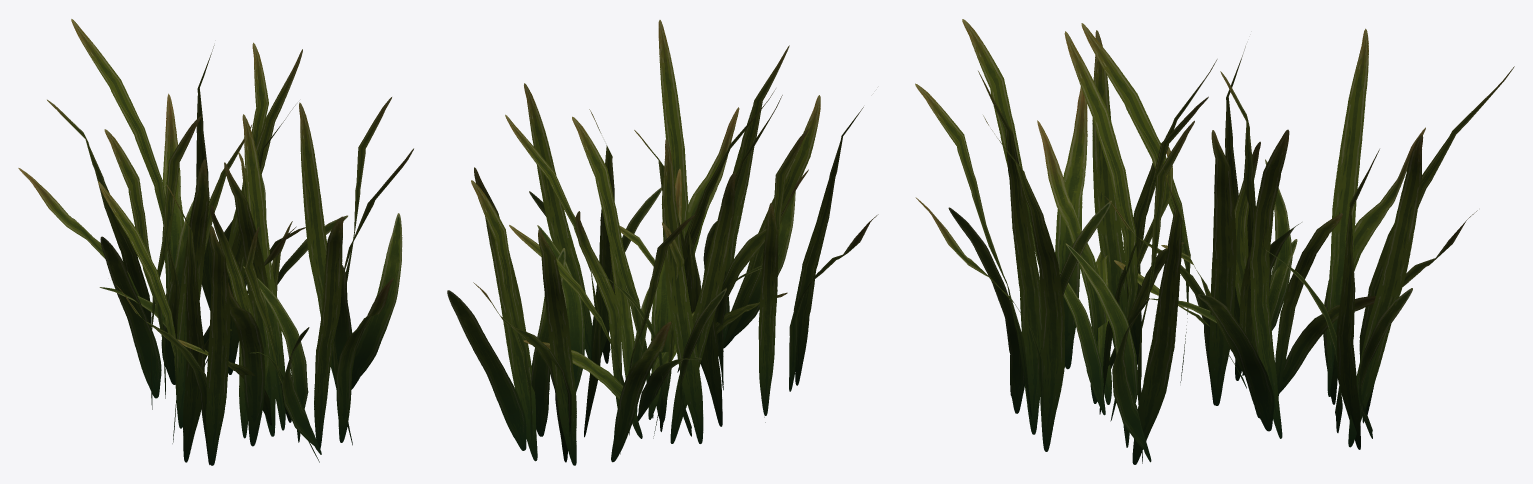
Rendered from Grass_Large_4.fbx.
The picture shows the model from 3 angles, left to right: view 1: azimuth 30°, elevation 25°; view 2: azimuth 150°, elevation 25°; view 3: azimuth 270°, elevation 25°; orthographic projection. The views are drawn at different scales.
Parts seen in each view (by area): view 1: Grass_Large_4; view 2: Grass_Large_4; view 3: Grass_Large_4.
Boxes of the visible parts, left/top/right/bottom form: Grass_Large_4: left=18, top=19, right=413, bottom=465; Grass_Large_4: left=447, top=20, right=878, bottom=465; Grass_Large_4: left=915, top=19, right=1514, bottom=464.
Size of the model in its own units: 2.28 by 2.19 by 3.19.
